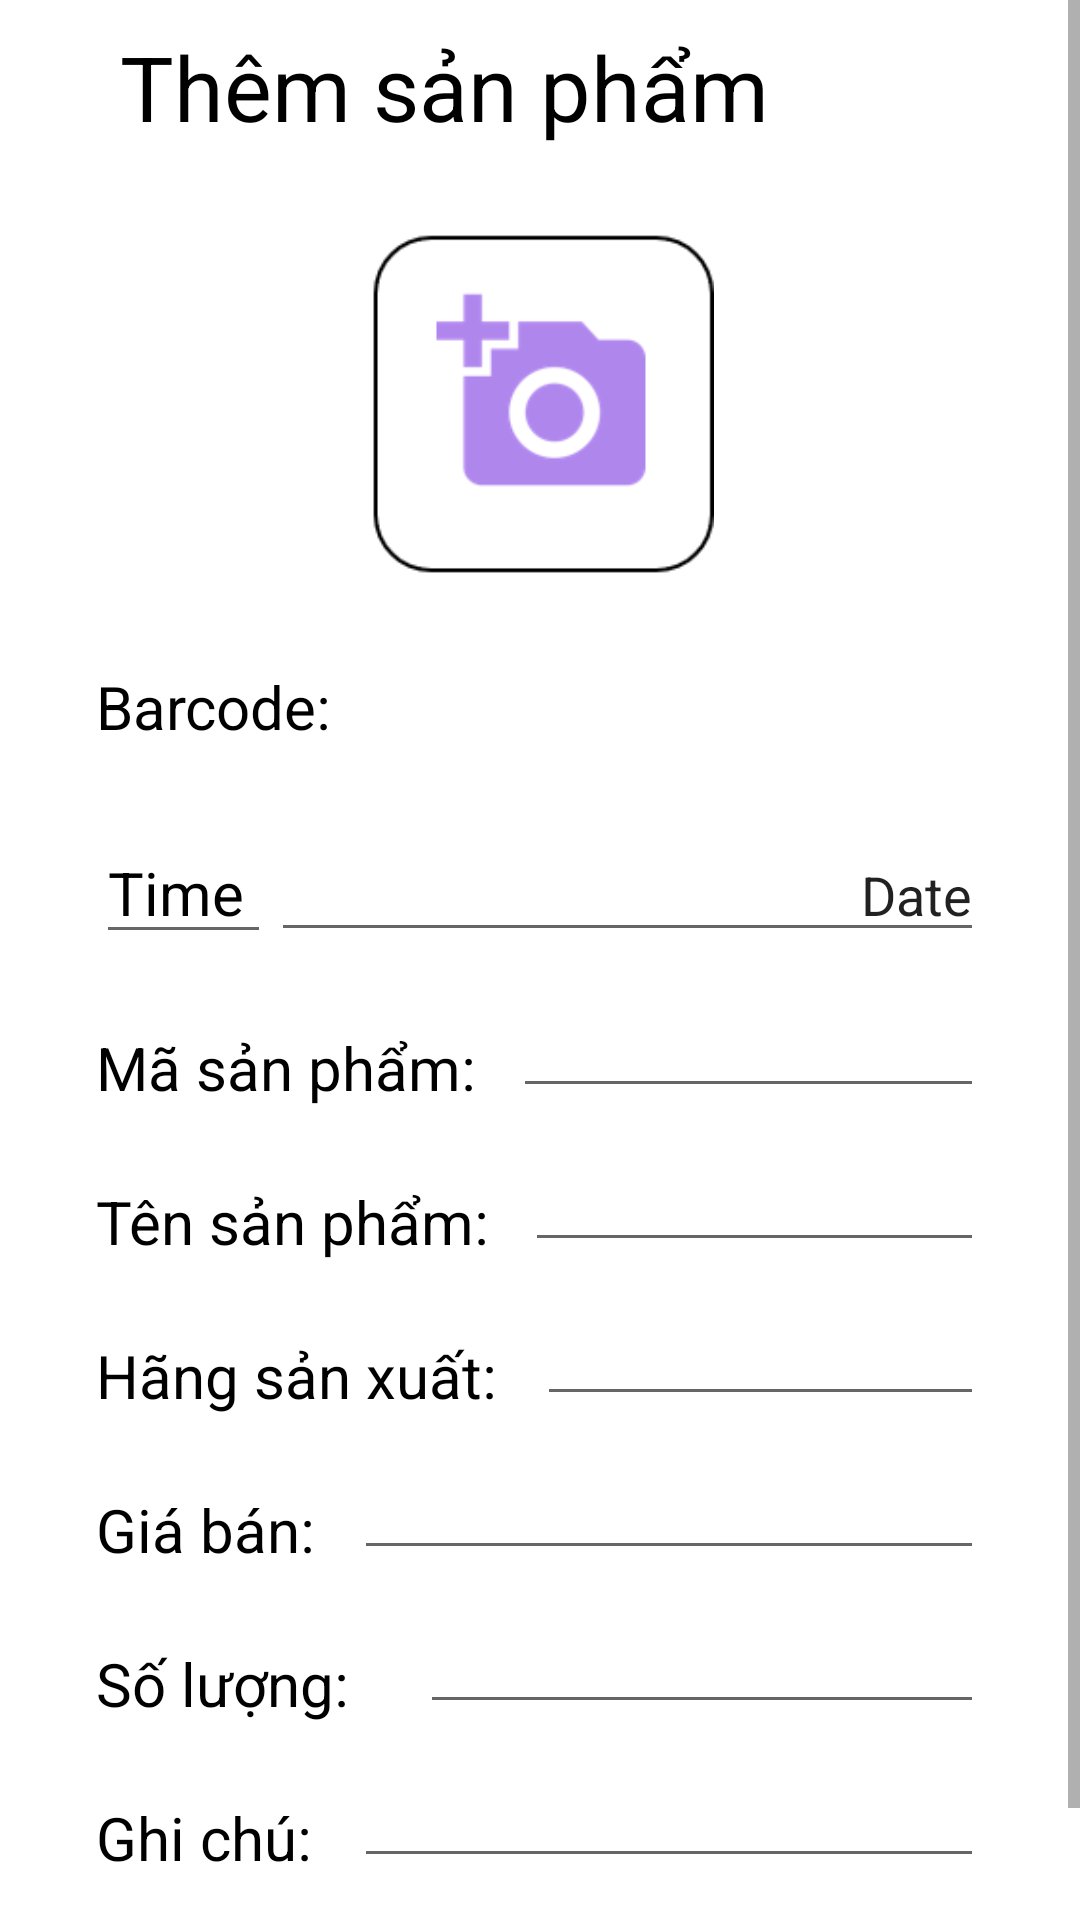

Screen size 1080px×1920px. Icon name, then its box in pixels as BBox(x1, y1, x2, y2):
imgphoto: BBox(373, 235, 714, 573)
